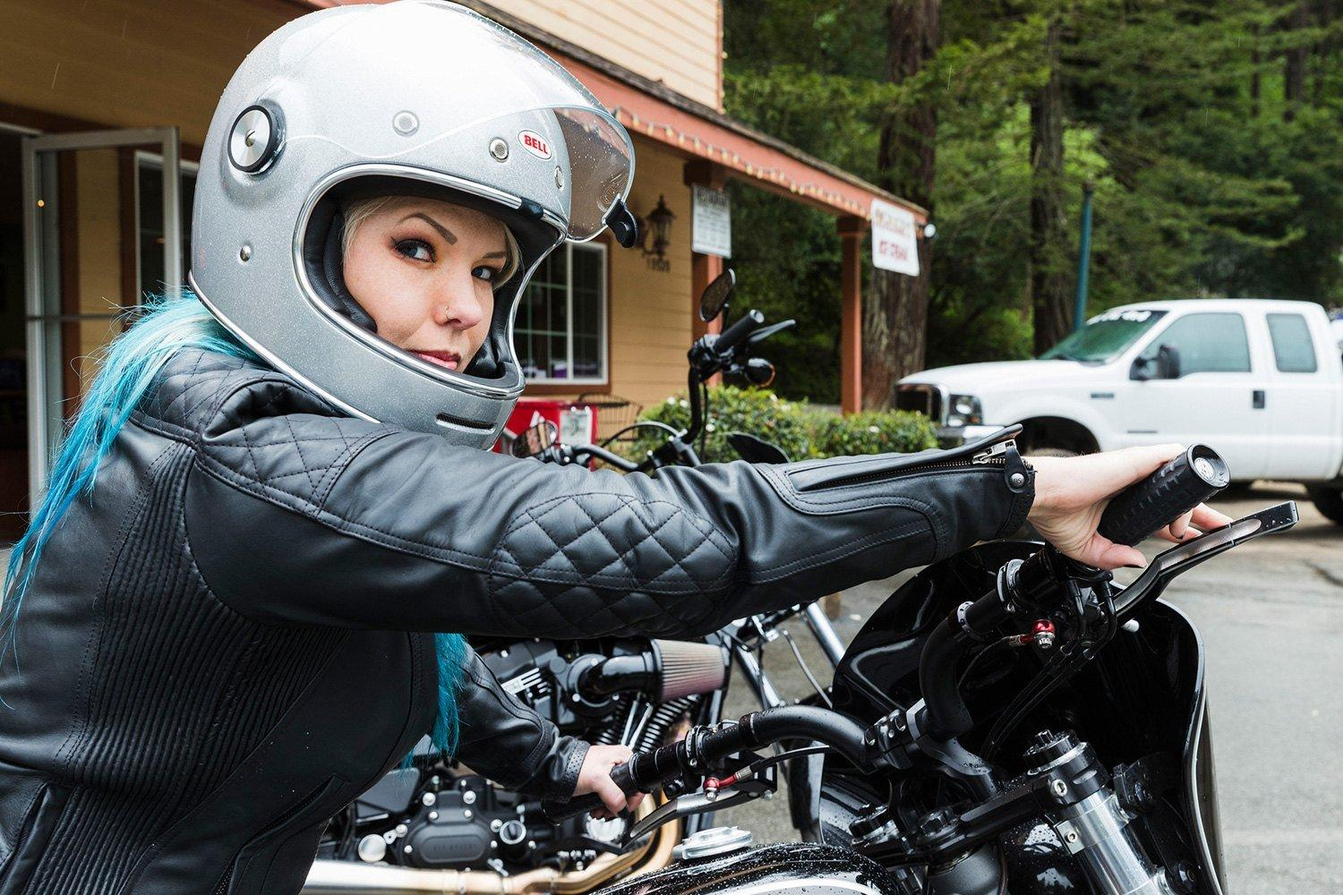Helmet: (191, 0, 635, 447), (0, 0, 441, 83)
